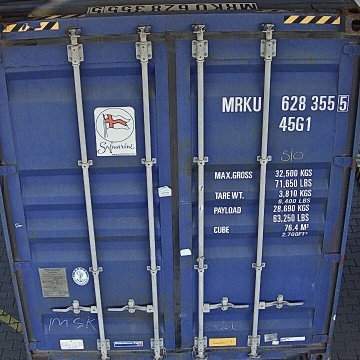serial_id: (222, 95, 348, 112)
